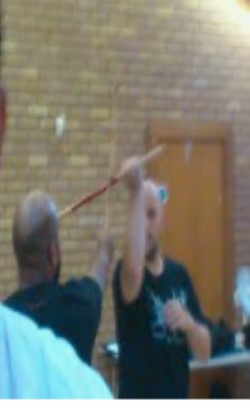baston_e: (60, 145, 156, 223)
baston_v: (152, 138, 167, 156)
